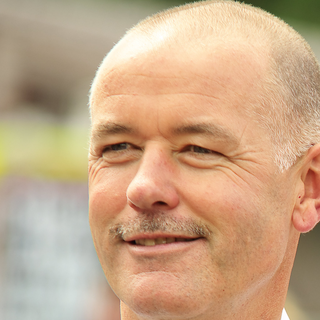eye: (174, 140, 226, 164), (95, 136, 142, 161)
